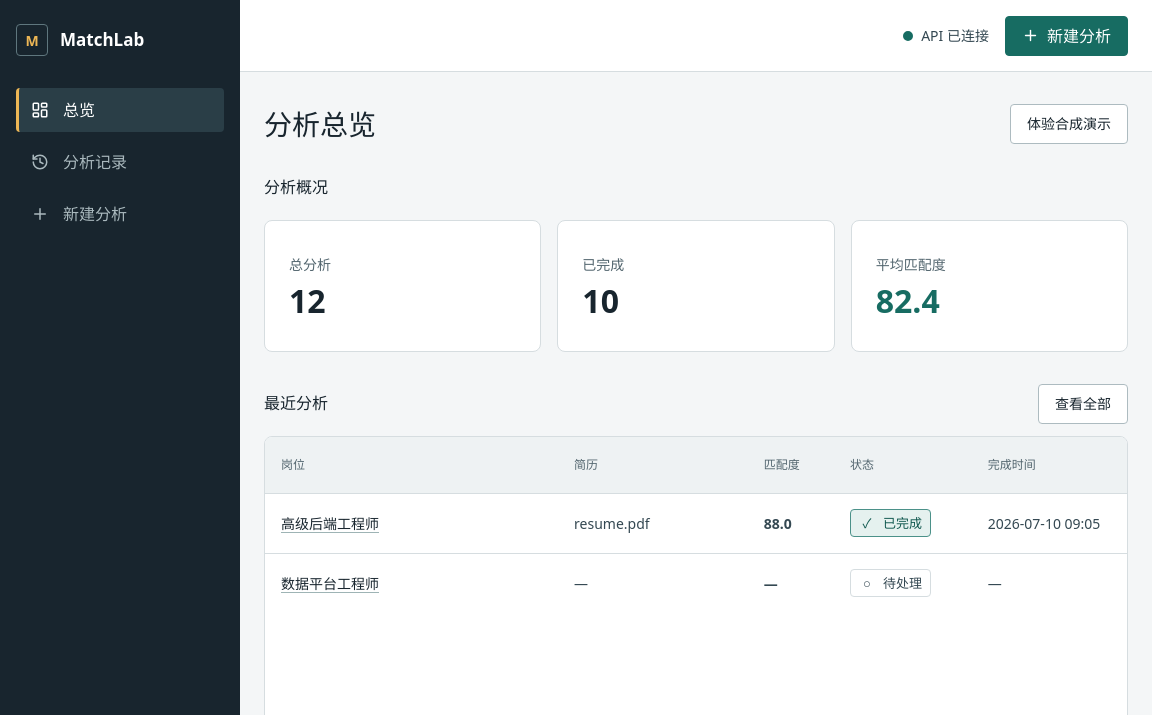
Test case: opens a prefilled synthetic demo from the permanent dashboard action
Click the link "体验合成演示" at (1069, 124), box [1010,104,1128,144]
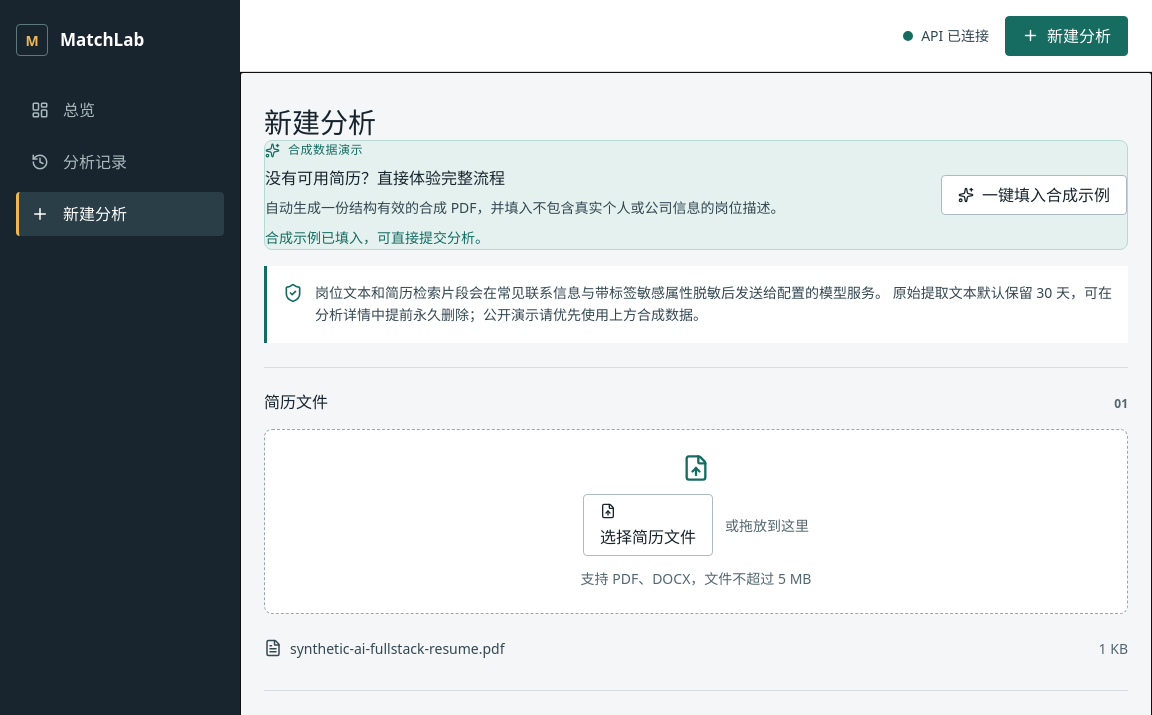
Expected: the message named "合成演示数据已填入" is shown, [265,228,489,247]
